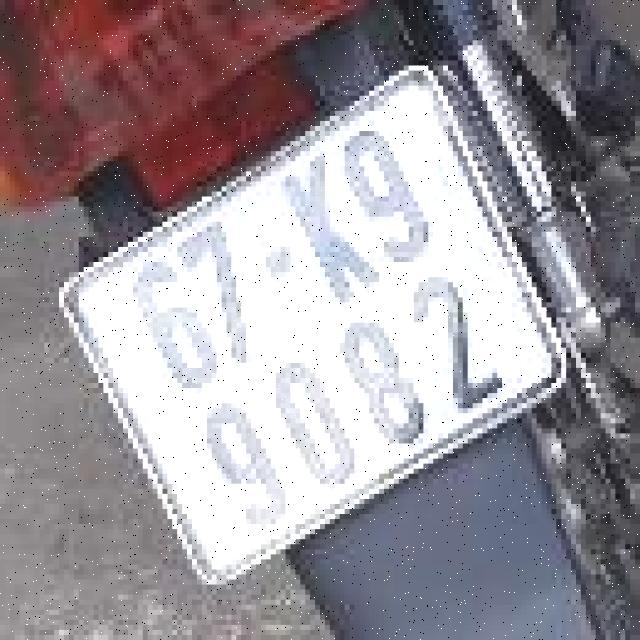0: (250, 344, 370, 500)
2: (394, 252, 521, 427)
6: (113, 247, 232, 403)
7: (168, 207, 276, 376)
8: (322, 301, 440, 463)
9: (321, 101, 449, 292), (180, 387, 306, 545)
K: (264, 140, 398, 319)
